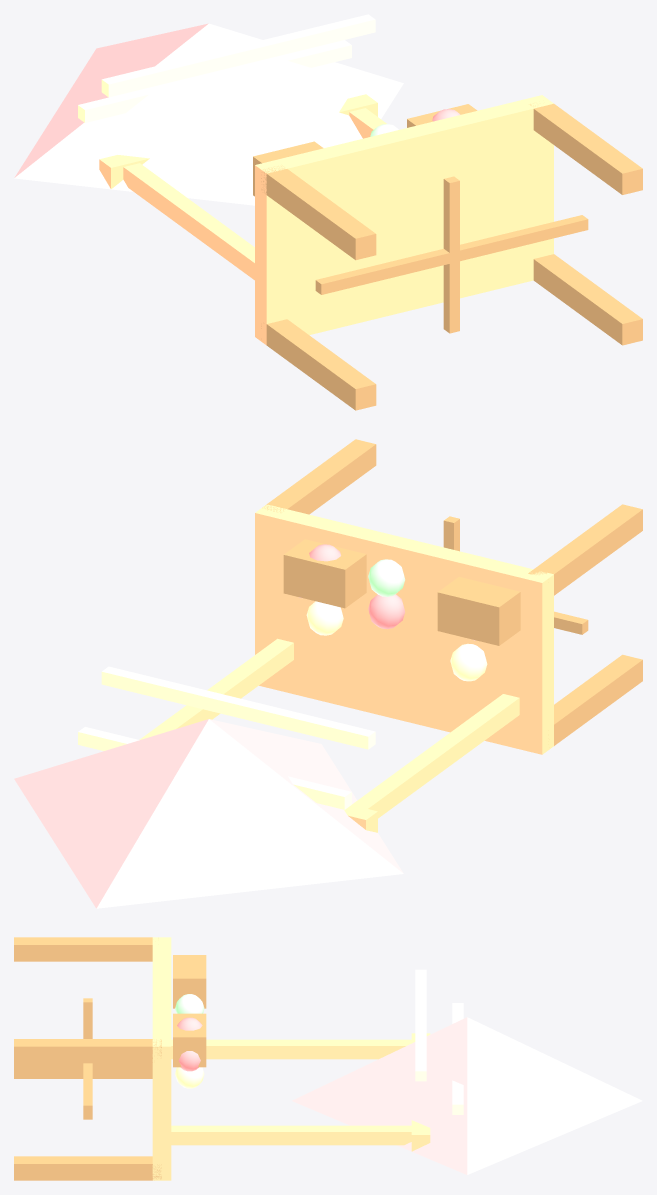
The model's file is market_stall.glb.
The picture shows the model from 3 angles, top to bottom: view 1: azimuth 30°, elevation 25°; view 2: azimuth 150°, elevation 25°; view 3: azimuth 270°, elevation 25°; orthographic projection. The views are drawn at different scales.
Parts seen in each view (by area): view 1: table, canopy, canopy_strip2, post_l, cross_x, leg_bl, leg_fl, leg_br, leg_fr, cross_z, canopy_strip, beam (+2 smaller); view 2: canopy, table, canopy_strip2, post_l, basket, basket2, leg_bl, leg_br, leg_fl, post_r, canopy_strip, fruit_5 (+3 smaller); view 3: canopy, post_r, table, post_l, leg_fr, leg_br, leg_bl, leg_fl, basket, canopy_strip2, basket2, canopy_strip (+6 smaller).
Part boxes in pixels (box(x1,y1,x2,y2)): table: box(255, 95, 553, 345); canopy: box(14, 23, 403, 205); canopy_strip2: box(101, 14, 375, 97); post_l: box(123, 163, 305, 304); cross_x: box(315, 215, 588, 294); leg_bl: box(261, 165, 376, 260); leg_fl: box(261, 319, 376, 410); leg_br: box(529, 103, 642, 194); leg_fr: box(533, 254, 642, 345); cross_z: box(443, 176, 459, 333); canopy_strip: box(78, 40, 351, 122); beam: box(99, 94, 377, 188); canopy: box(14, 719, 403, 908); table: box(255, 504, 553, 754); canopy_strip2: box(101, 666, 375, 749); post_l: box(352, 694, 519, 819); basket: box(437, 577, 520, 645); basket2: box(283, 539, 366, 608); leg_bl: box(528, 504, 642, 595); leg_br: box(262, 439, 376, 514); leg_fl: box(554, 654, 642, 745); post_r: box(139, 638, 293, 739); canopy_strip: box(78, 727, 351, 809); fruit_5: box(368, 559, 405, 596); canopy: box(292, 1017, 642, 1174); post_r: box(171, 1125, 411, 1145); table: box(152, 937, 171, 1180); post_l: box(171, 1039, 411, 1059); leg_fr: box(14, 1156, 161, 1180); leg_br: box(14, 1039, 161, 1063); leg_bl: box(14, 937, 158, 961); leg_fl: box(14, 1063, 152, 1078); basket: box(173, 955, 206, 1008); canopy_strip2: box(415, 969, 426, 1081); basket2: box(173, 1013, 206, 1067); canopy_strip: box(452, 1003, 463, 1114).
Bounding box in the file's own units: 1.9 × 0.8 × 3.4.
